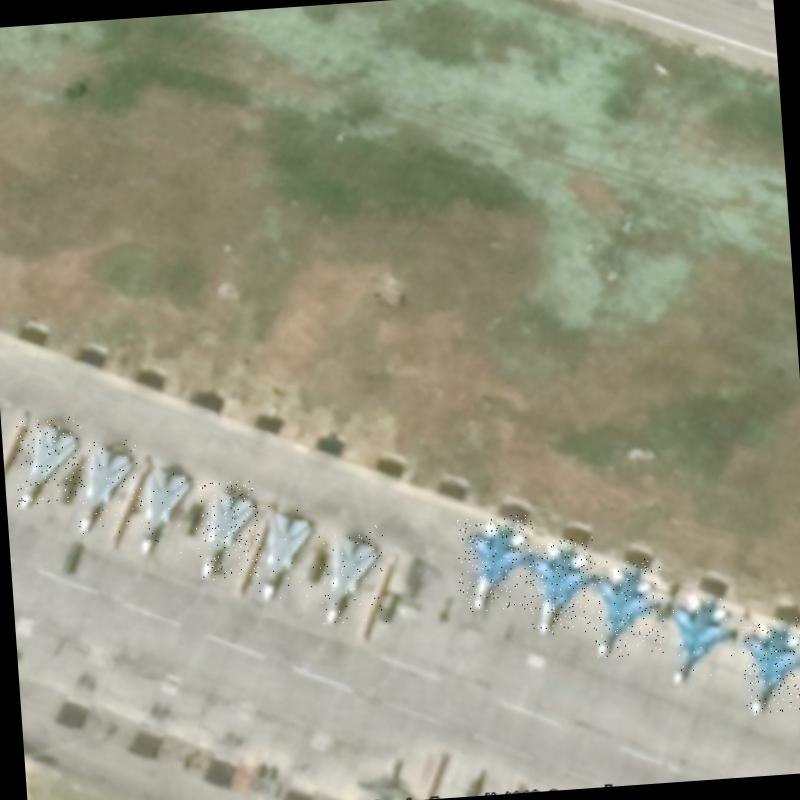A19: (454, 513, 538, 613), (590, 557, 666, 658), (666, 588, 742, 688), (526, 536, 598, 635), (740, 614, 800, 715)
A20: (316, 524, 390, 626), (10, 414, 86, 511), (132, 454, 201, 556), (253, 501, 322, 602), (194, 480, 262, 580), (73, 438, 142, 535)
